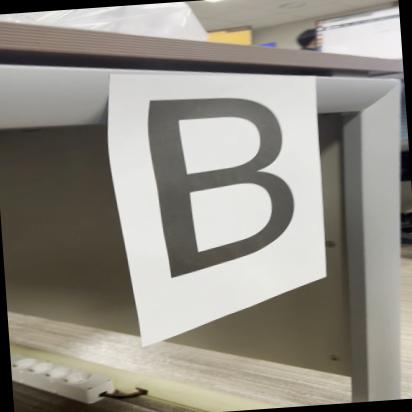seat: (84, 40, 375, 301)
